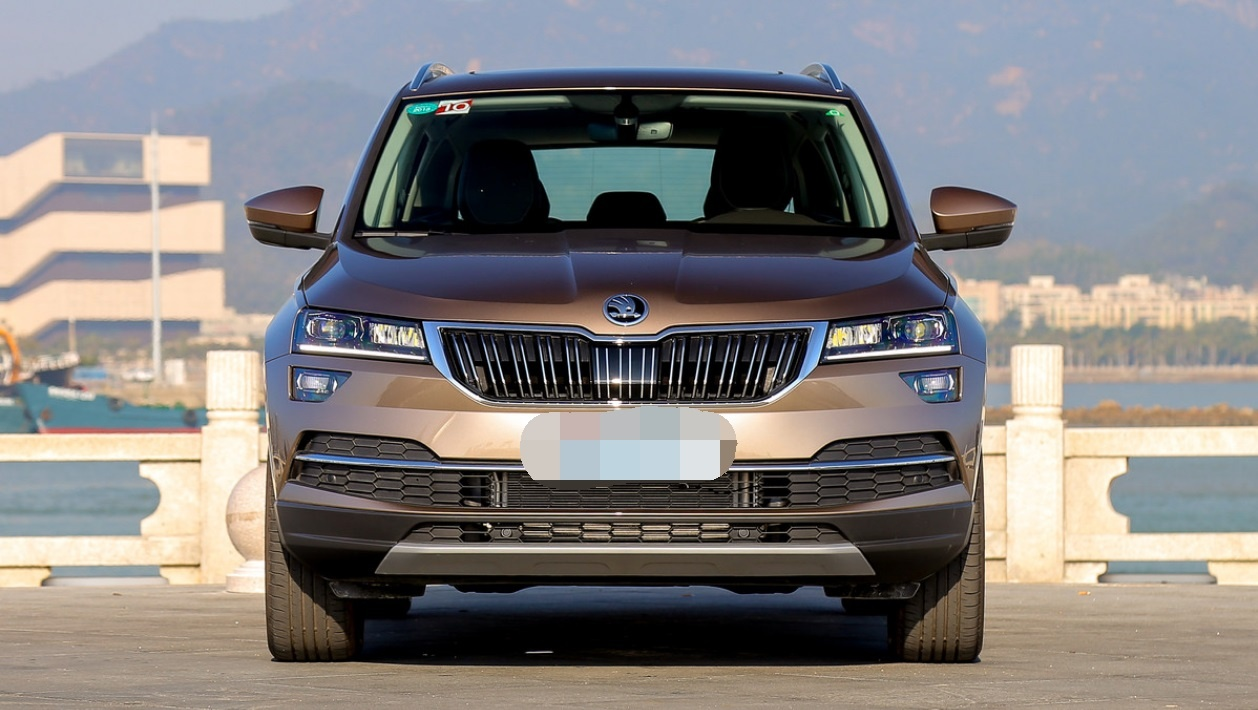SUV: (241, 43, 1014, 661)
